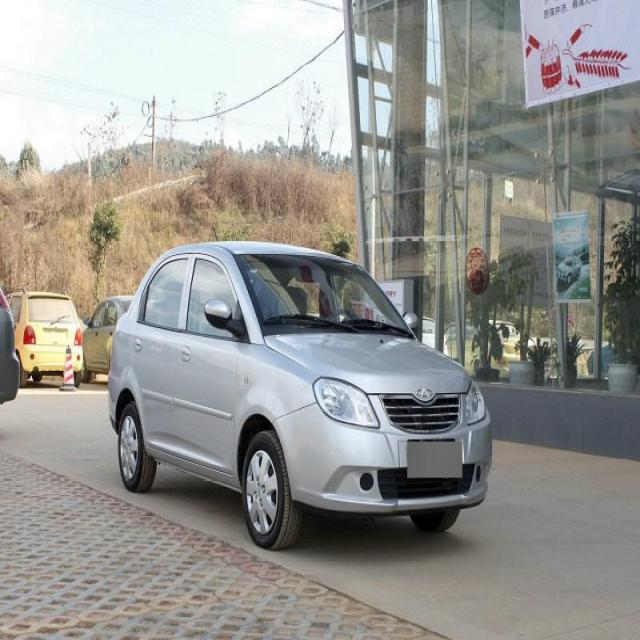door: (133, 256, 194, 453)
front_bumper: (273, 400, 492, 516)
front_glass: (235, 255, 414, 335)
front_left_side_light: (462, 377, 488, 428)
front_left_side_mirror: (404, 309, 419, 334)
front_right_side_door: (172, 250, 241, 479)
front_right_side_light: (312, 373, 381, 430)
front_right_side_mirror: (204, 297, 238, 333)
wheel: (242, 430, 297, 549), (118, 402, 154, 490)
